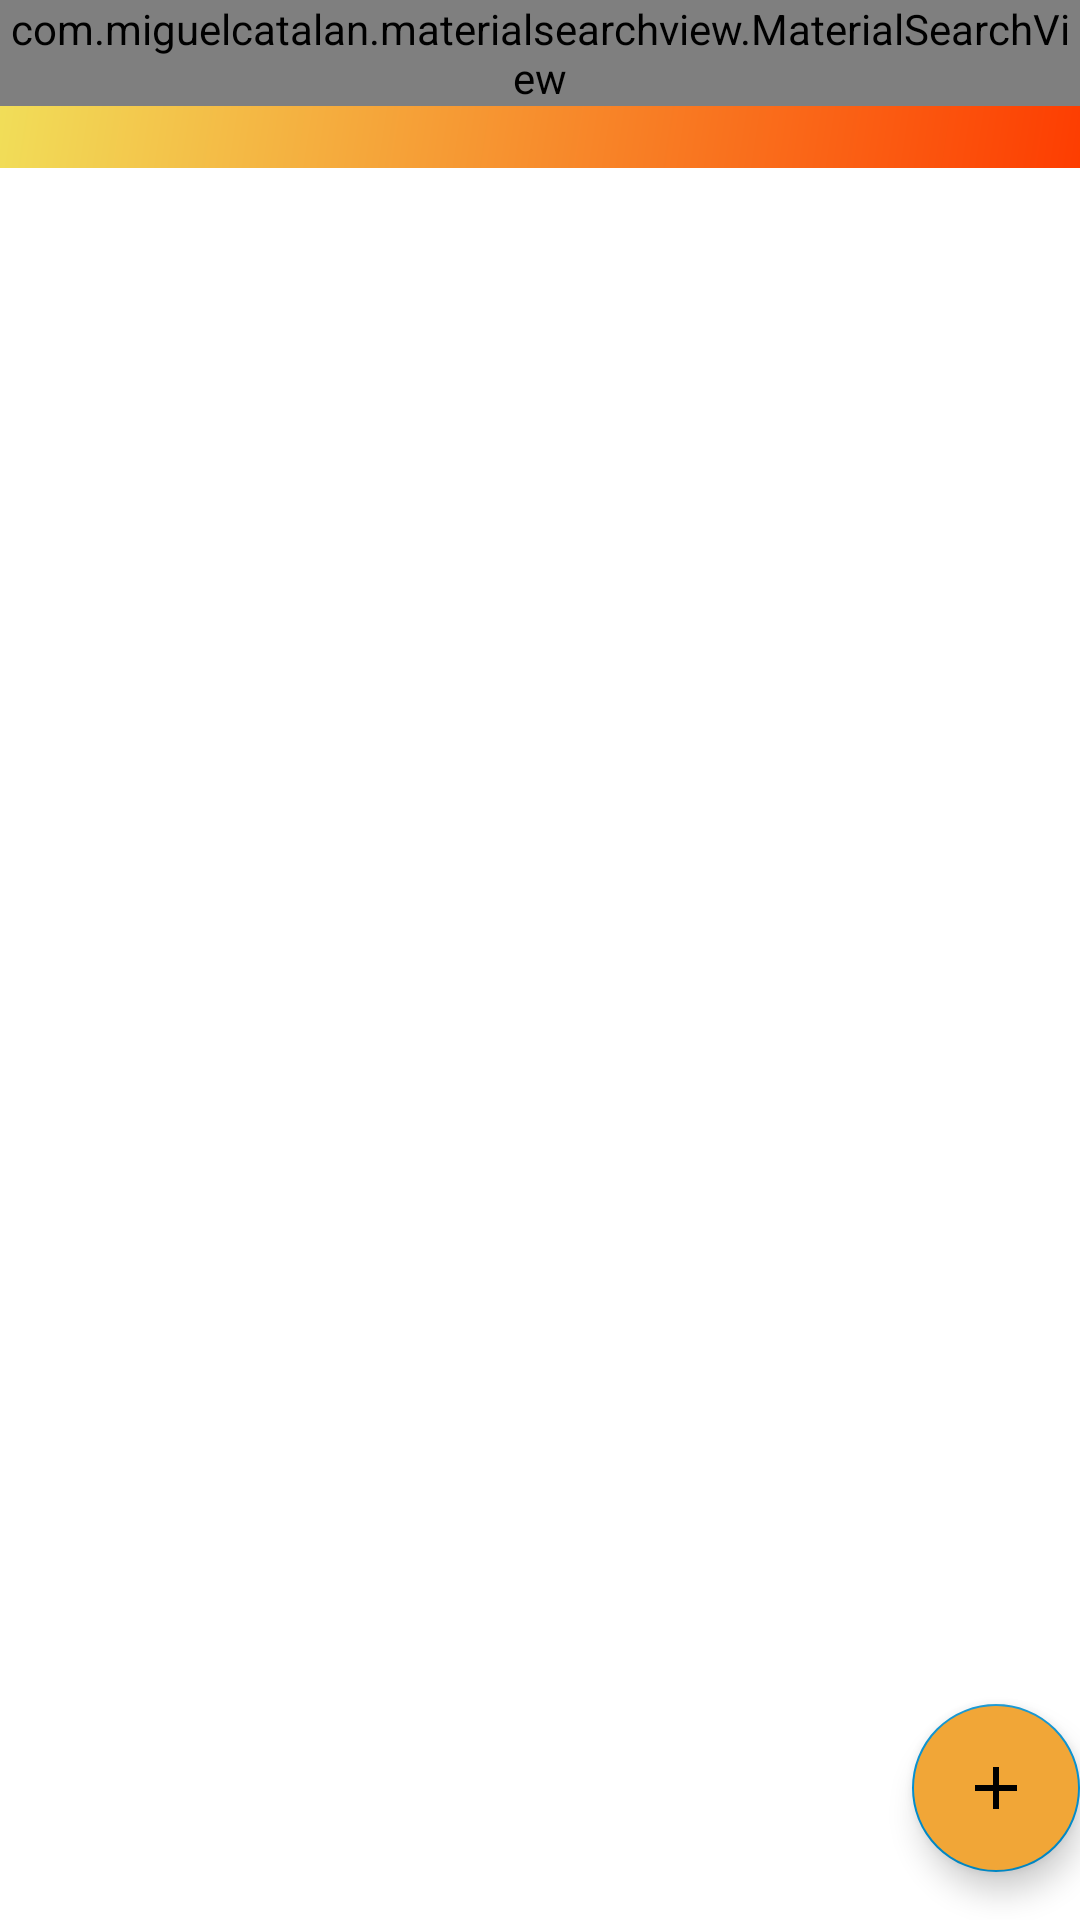

Named icons in this screenshot (1080px×1920px) and their bounding boxes, (x1, y1, x2, y2):
adicionar: (912, 1704, 1080, 1872)
